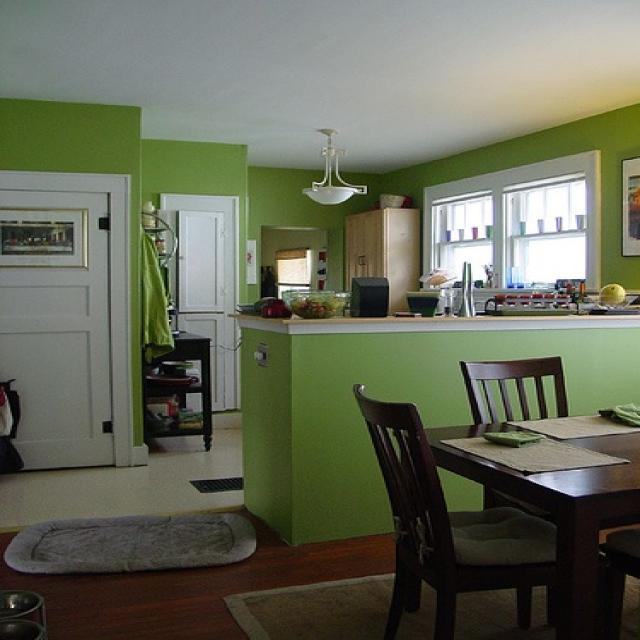chair: (346, 379, 565, 639), (452, 352, 575, 425)
diningtable: (401, 406, 638, 638)
